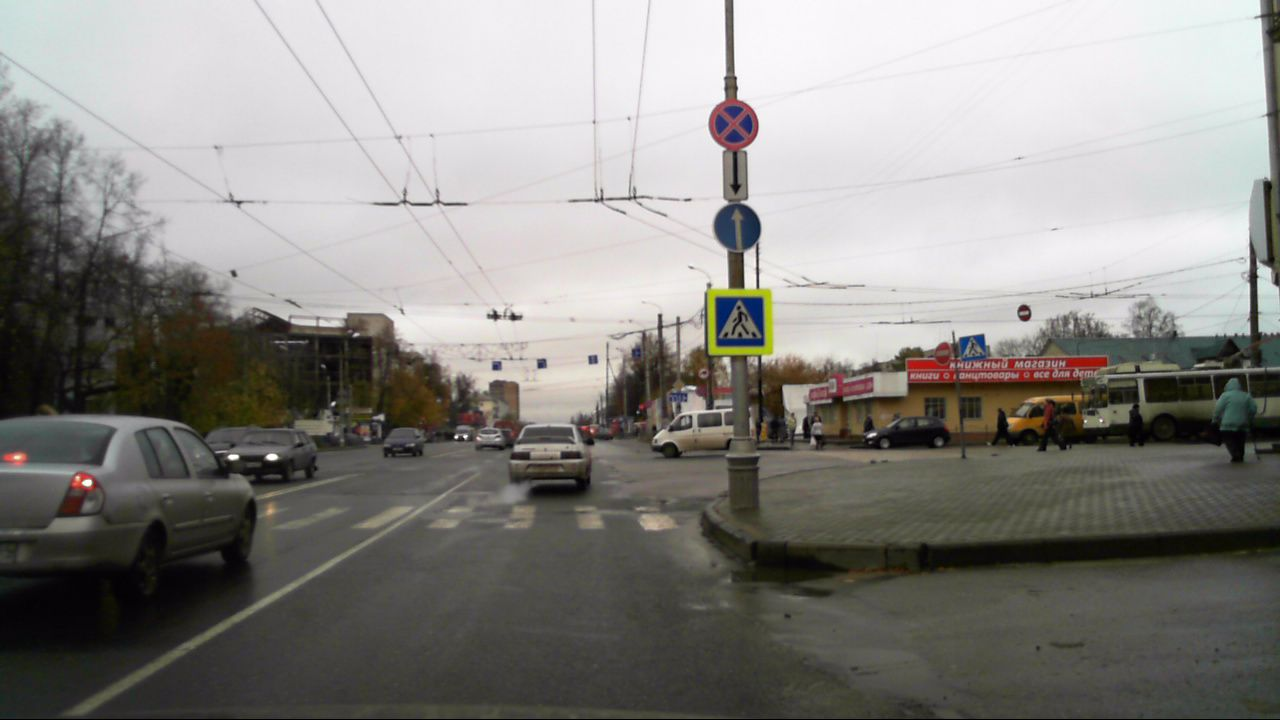No Parking: (708, 100, 758, 149)
